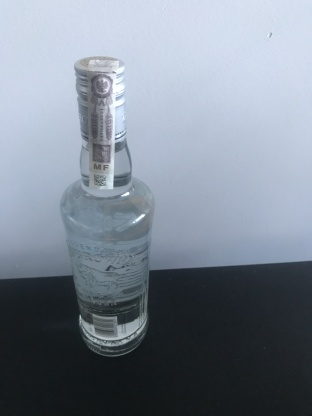nakretka: (70, 53, 129, 146)
